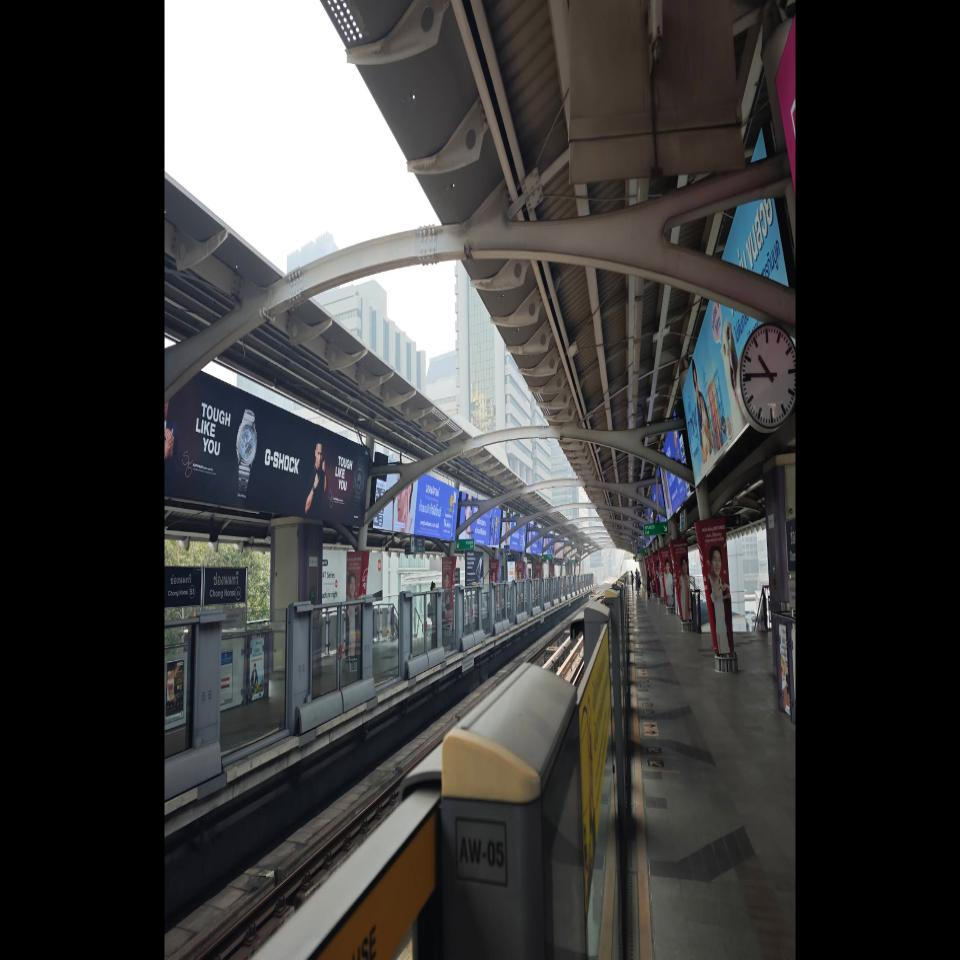Chong Nonsi: (164, 563, 204, 610), (203, 564, 247, 606)
